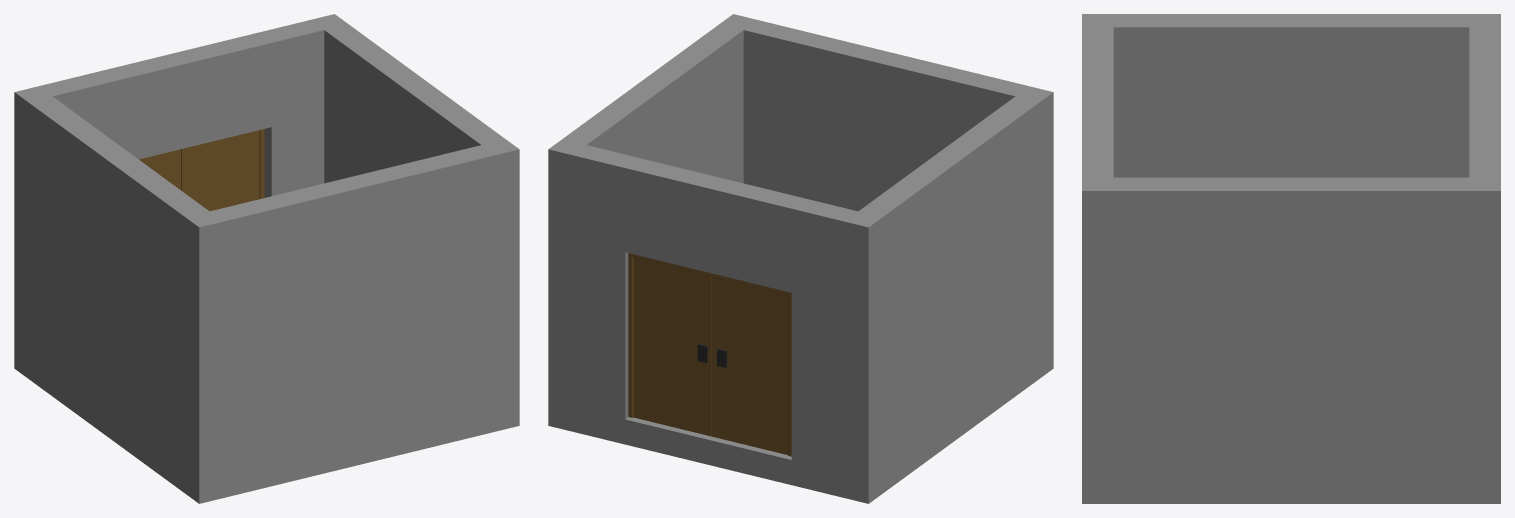
Rendered from MSH_Room_DoubleDoor_Front.fbx.
The picture shows the model from 3 angles, left to right: view 1: azimuth 30°, elevation 25°; view 2: azimuth 150°, elevation 25°; view 3: azimuth 270°, elevation 25°; orthographic projection. The views are drawn at different scales.
Parts seen in each view (by area): view 1: MSH_Room_DoubleDoor_Front, MSH_Door_Double_L, MSH_Door_Double_R; view 2: MSH_Room_DoubleDoor_Front, MSH_Door_Double_L, MSH_Door_Double_R, MSH_DoorFrame_Double; view 3: MSH_Room_DoubleDoor_Front.
Boxes of the visible parts, bbox=[...] form: MSH_Room_DoubleDoor_Front: bbox=[14, 14, 519, 503]; MSH_Door_Double_L: bbox=[181, 130, 259, 211]; MSH_Door_Double_R: bbox=[139, 149, 181, 190]; MSH_Room_DoubleDoor_Front: bbox=[548, 14, 1053, 503]; MSH_Door_Double_L: bbox=[633, 258, 711, 436]; MSH_Door_Double_R: bbox=[711, 277, 788, 454]; MSH_DoorFrame_Double: bbox=[628, 253, 791, 456]; MSH_Room_DoubleDoor_Front: bbox=[1082, 14, 1500, 503].
Bounding box in the file's own units: 157 × 130 × 157.
